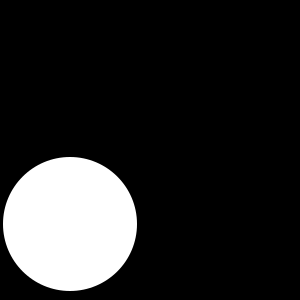rectangle: (3, 157, 137, 291)
